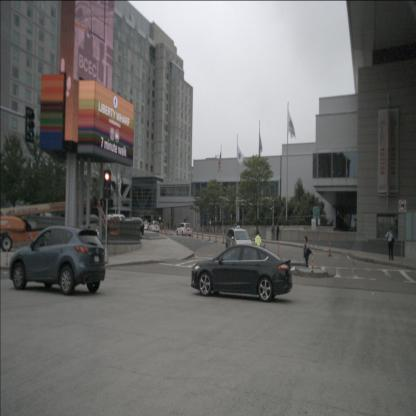human-pedestrian-adult: (385, 227, 395, 261), (303, 235, 311, 271), (255, 231, 262, 263), (272, 223, 276, 242), (276, 223, 280, 241)
movable_object-trafficcone: (328, 236, 332, 256), (311, 248, 314, 272), (263, 236, 266, 258), (214, 228, 218, 243), (208, 226, 212, 241), (222, 230, 225, 244), (201, 226, 204, 240), (6, 247, 8, 266), (196, 227, 199, 238), (191, 227, 193, 237)
vehicle-car: (10, 226, 105, 296), (191, 244, 292, 295), (226, 228, 253, 252), (119, 217, 144, 239), (104, 214, 126, 234), (176, 223, 192, 236), (150, 221, 160, 233), (142, 222, 149, 231)
